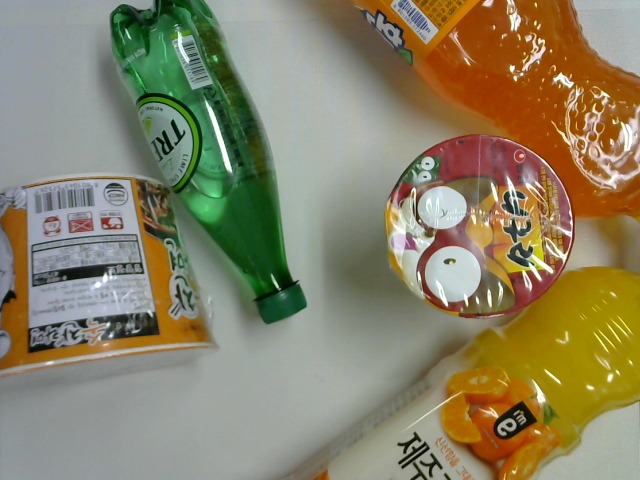Hejangchan: (1, 172, 218, 379)
Hwanta_Orange_1.5L: (341, 1, 633, 234)
Jeju_Tangerine_1.5L: (276, 265, 639, 480)
Raccoon: (380, 132, 576, 320)
Treviraim_500ml: (102, 1, 314, 328)
